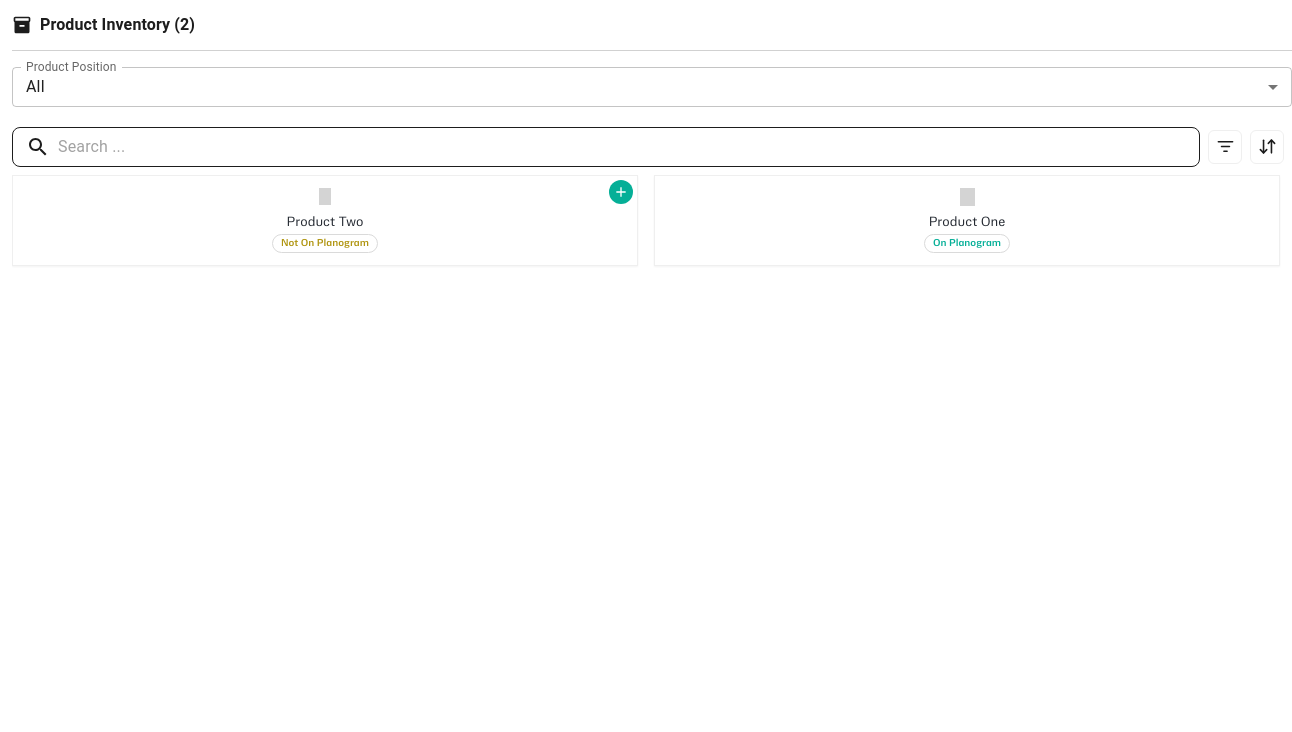
Test case: ProductInventory › handles applying filters with "not on planogram" checkbox checked
Click the 1st button: (1225, 147) [1208,130,1242,164]
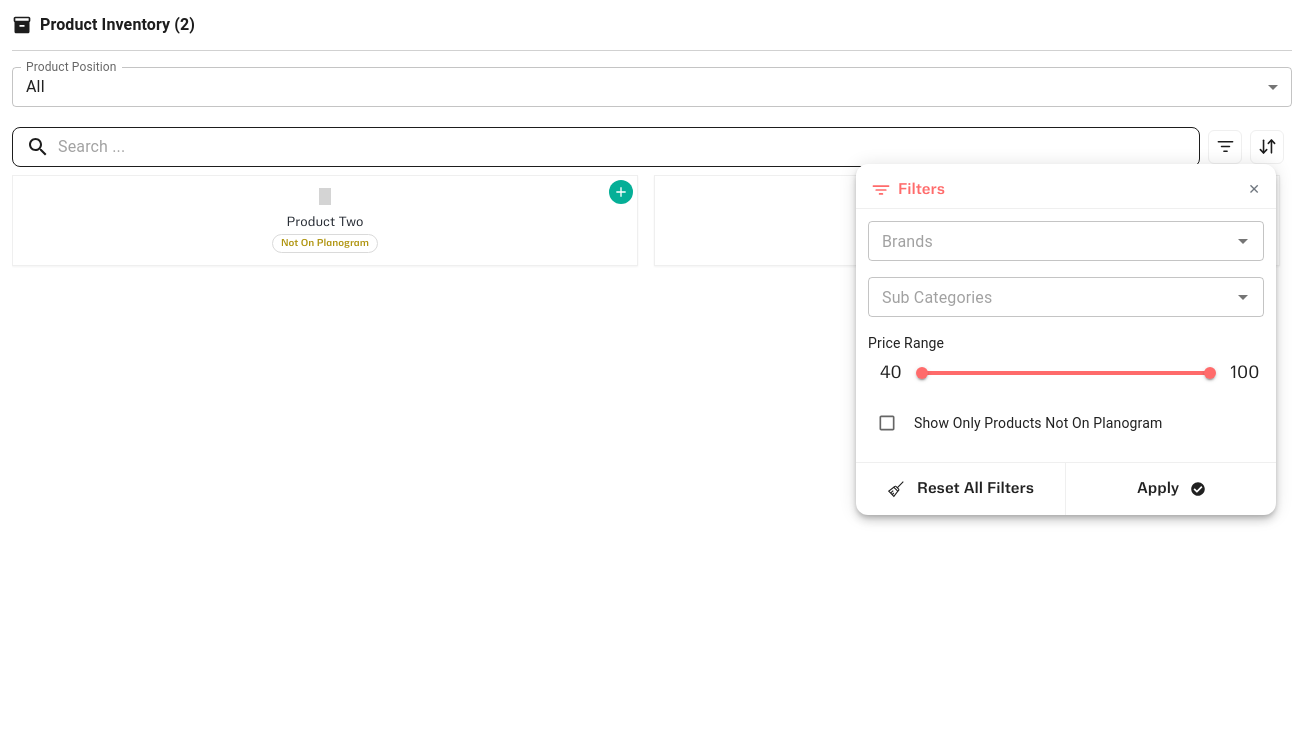
Check: the text "Filters" is shown, box [898,180,945,200]
Check: the checkbox is shown
Click the checkbox: (887, 423) [877,413,897,433]
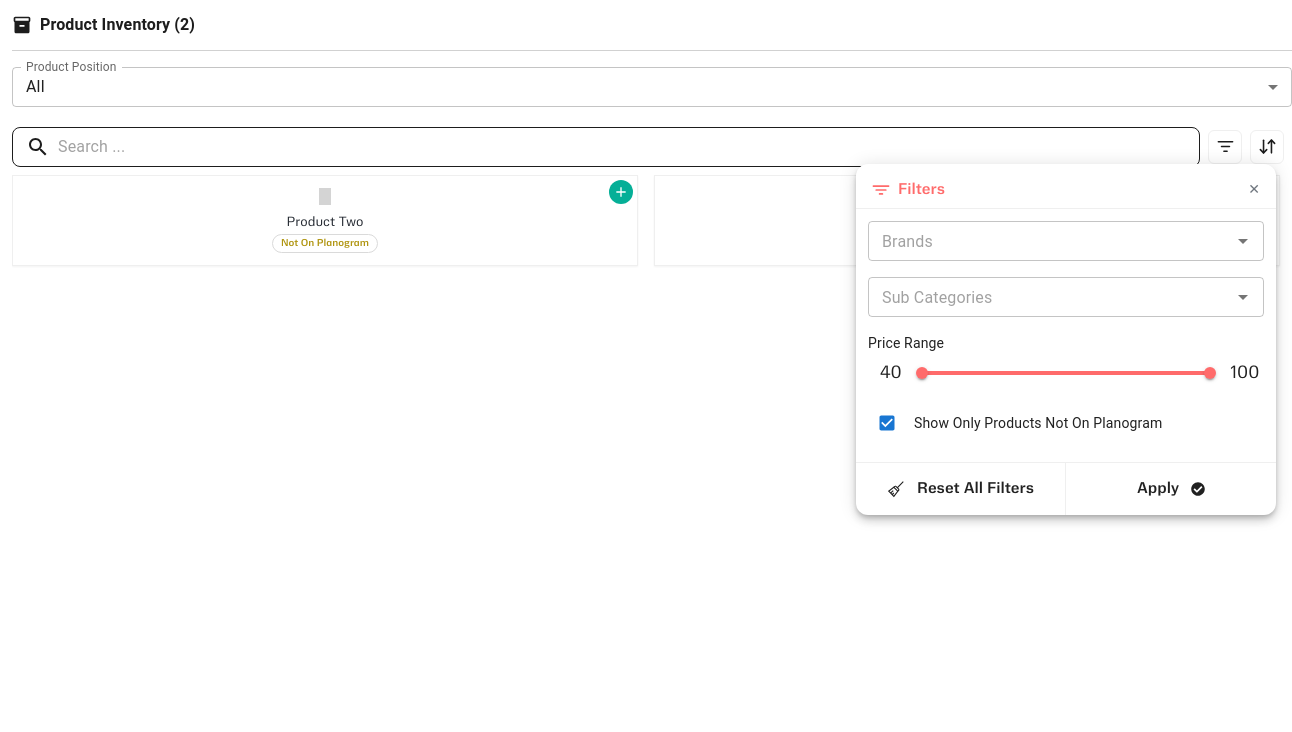
Click the button "Apply": (1171, 489) [1066,463,1276,515]
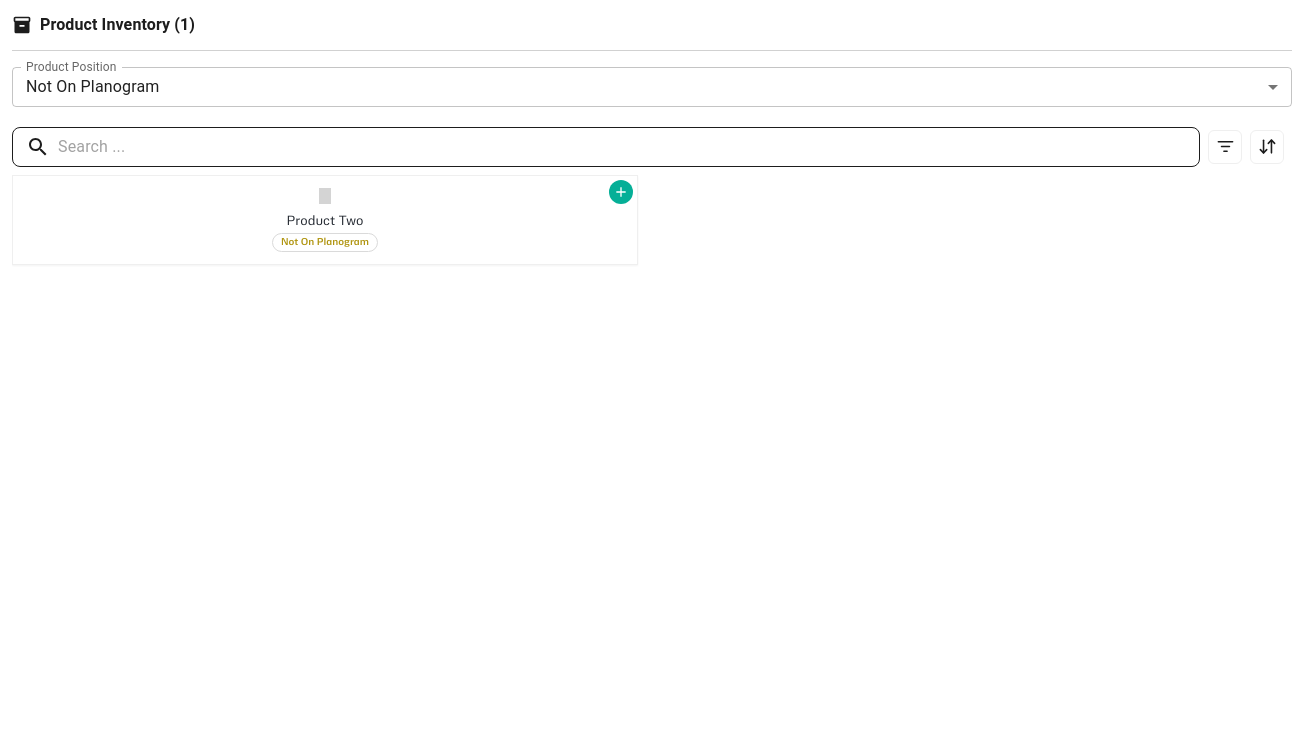
Check: the text "Filters" is gone
